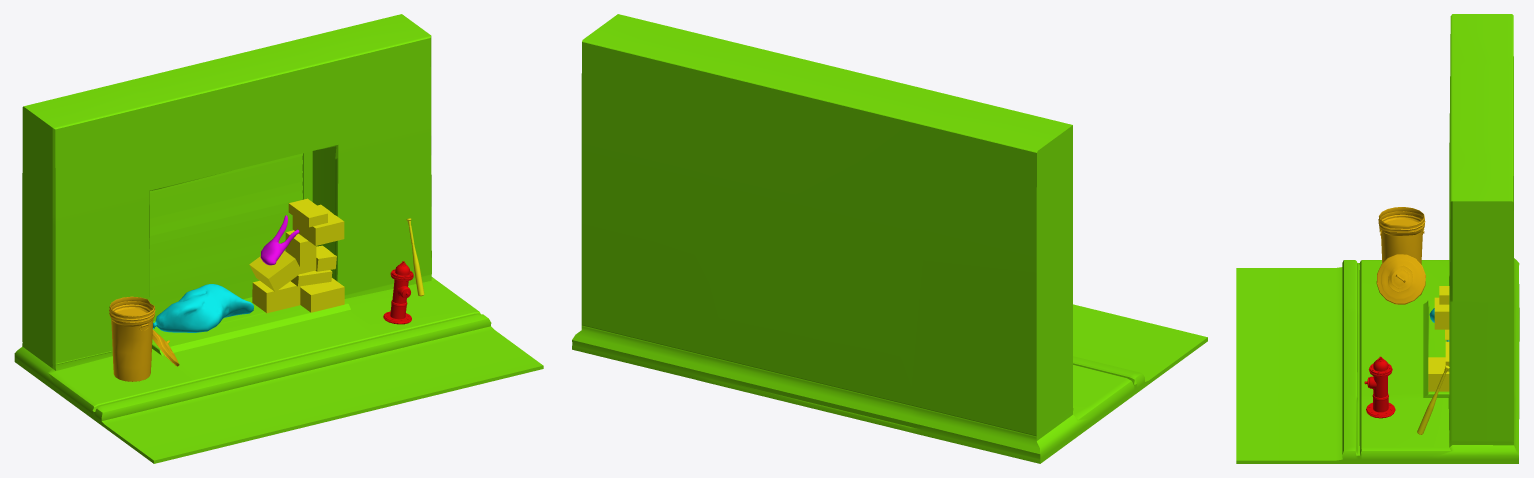
Rendered from SCENE_ToTexture.fbx.
3 renders of one model, left to right at view 1: azimuth 30°, elevation 25°; view 2: azimuth 150°, elevation 25°; view 3: azimuth 270°, elevation 25°, orthographic. The views are drawn at different scales.
Parts seen in each view (by area): view 1: Curbside, BatANDBoxes_ForUVs, TrashCan, TrashBag, FireHydrant, RabbitMask; view 2: Curbside; view 3: Curbside, TrashCan, BatANDBoxes_ForUVs, FireHydrant.
Boxes of the visible parts, x1,y1,x2,y2 form: Curbside: (14, 14, 543, 463); BatANDBoxes_ForUVs: (249, 198, 424, 313); TrashCan: (109, 296, 179, 381); TrashBag: (153, 284, 253, 332); FireHydrant: (383, 261, 413, 324); RabbitMask: (260, 215, 299, 265); Curbside: (572, 14, 1207, 463); Curbside: (1236, 14, 1519, 463); TrashCan: (1376, 207, 1425, 304); BatANDBoxes_ForUVs: (1417, 286, 1449, 434); FireHydrant: (1364, 356, 1395, 418).
Bounding box in the file's own units: 26.13 × 16.48 × 16.24.
